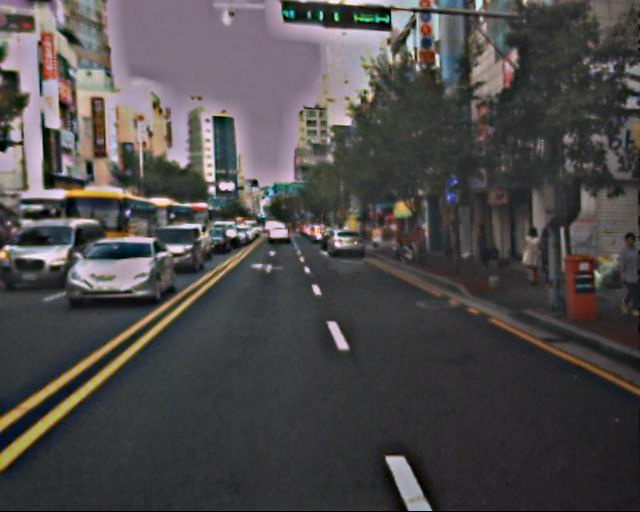person: (608, 229, 640, 319), (521, 227, 545, 286), (473, 222, 494, 274)
